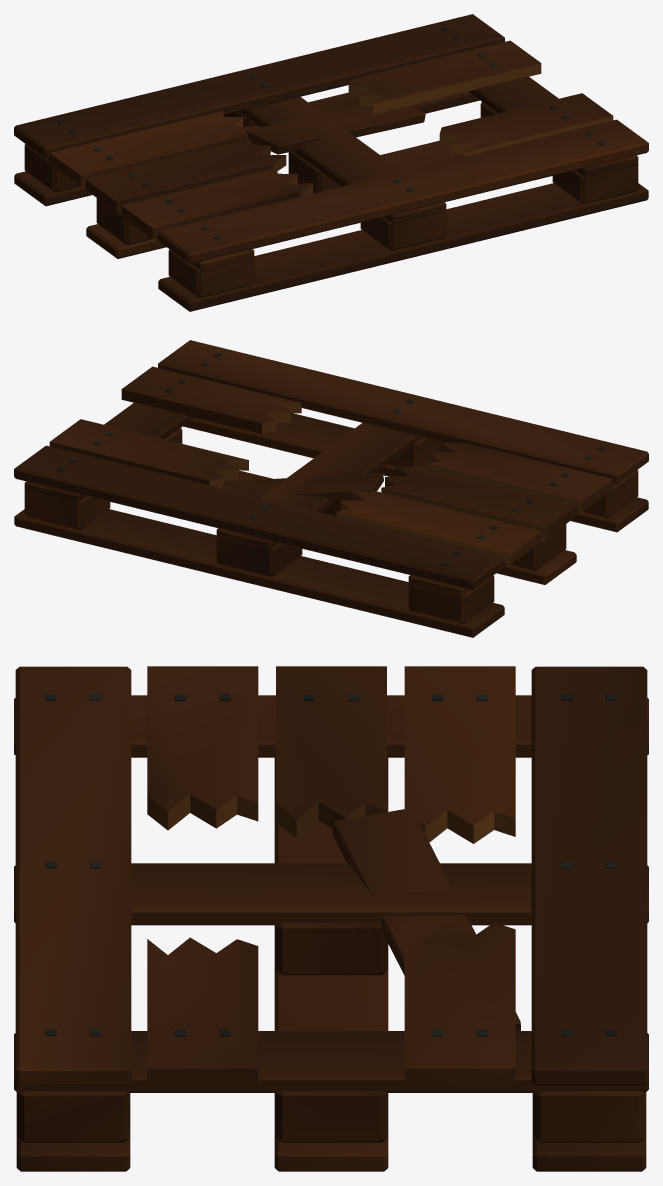
The model's file is MetalSteezy_Palette_Cassee.fbx.
3 renders of one model, top to bottom at view 1: azimuth 30°, elevation 25°; view 2: azimuth 150°, elevation 25°; view 3: azimuth 270°, elevation 25°, orthographic. The views are drawn at different scales.
Parts seen in each view (by area): view 1: MetalSteezy_Palette_Cassee; view 2: MetalSteezy_Palette_Cassee; view 3: MetalSteezy_Palette_Cassee.
Part boxes in pixels (box(x1,y1,x2,y2)): MetalSteezy_Palette_Cassee: box(14, 14, 648, 311); MetalSteezy_Palette_Cassee: box(14, 340, 648, 637); MetalSteezy_Palette_Cassee: box(14, 666, 648, 1171).
Size of the model in its own units: 1.56 by 1.04 by 0.1991.
